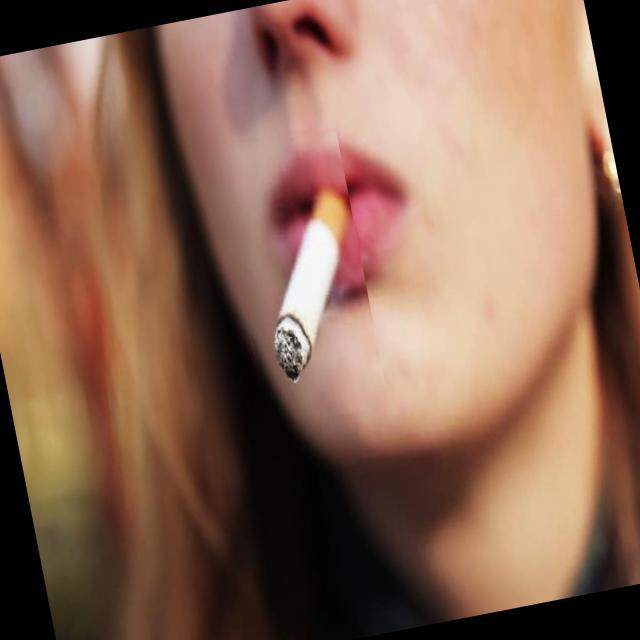cigarette: (212, 118, 390, 430)
